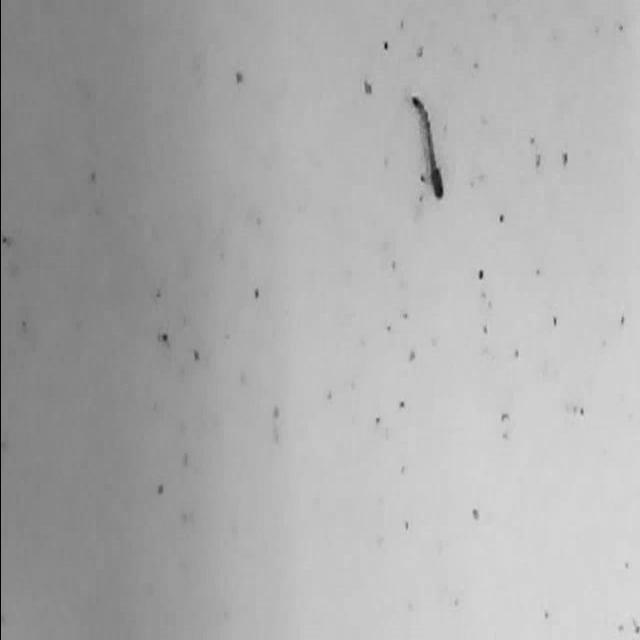larvas: (410, 94, 450, 198)
